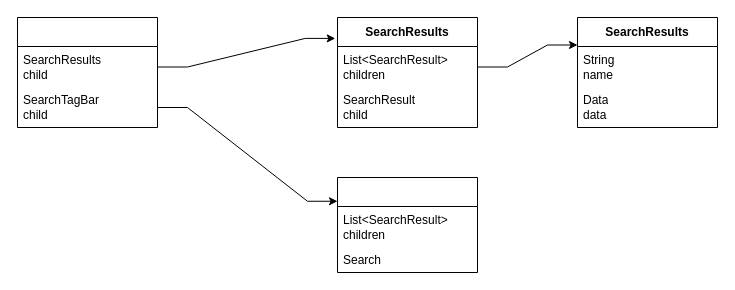
Some shapes in this 735 by 290 pixel diagram are drawn without their labels. Each missing label, with the box of its shape:
Home: (16, 16, 158, 128)
SearchTagBar: (336, 176, 478, 272)
